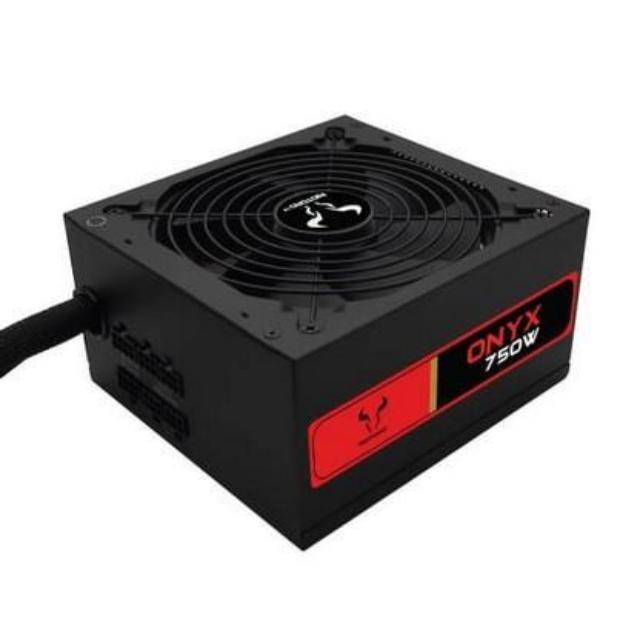PSU: (54, 104, 591, 556)
